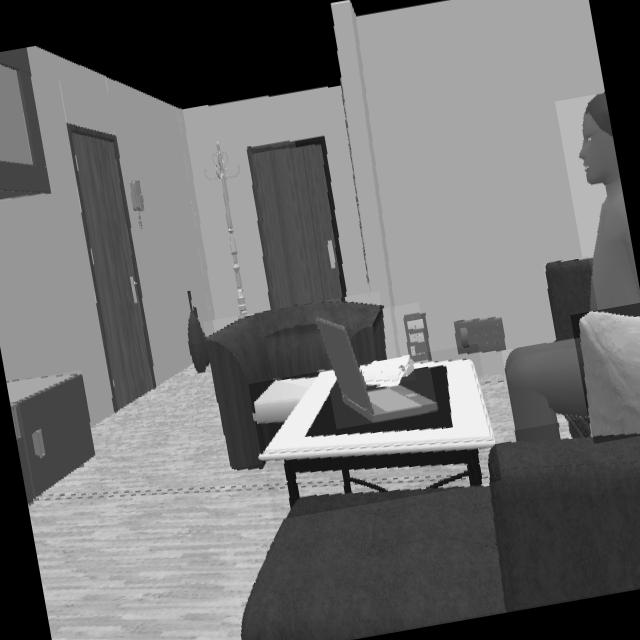book: (360, 355, 414, 387)
cabinet: (6, 374, 95, 501), (0, 48, 48, 198)
laptop: (317, 320, 437, 422)
person: (580, 93, 640, 316), (507, 339, 590, 438)
pillow: (582, 311, 640, 435)
sofa: (242, 418, 640, 640), (207, 302, 386, 468), (548, 259, 592, 339)
table: (261, 360, 495, 506)
